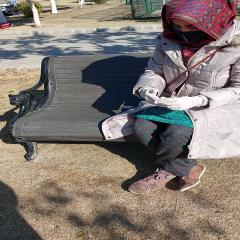gloved: (158, 97, 198, 111), (138, 86, 162, 106)
